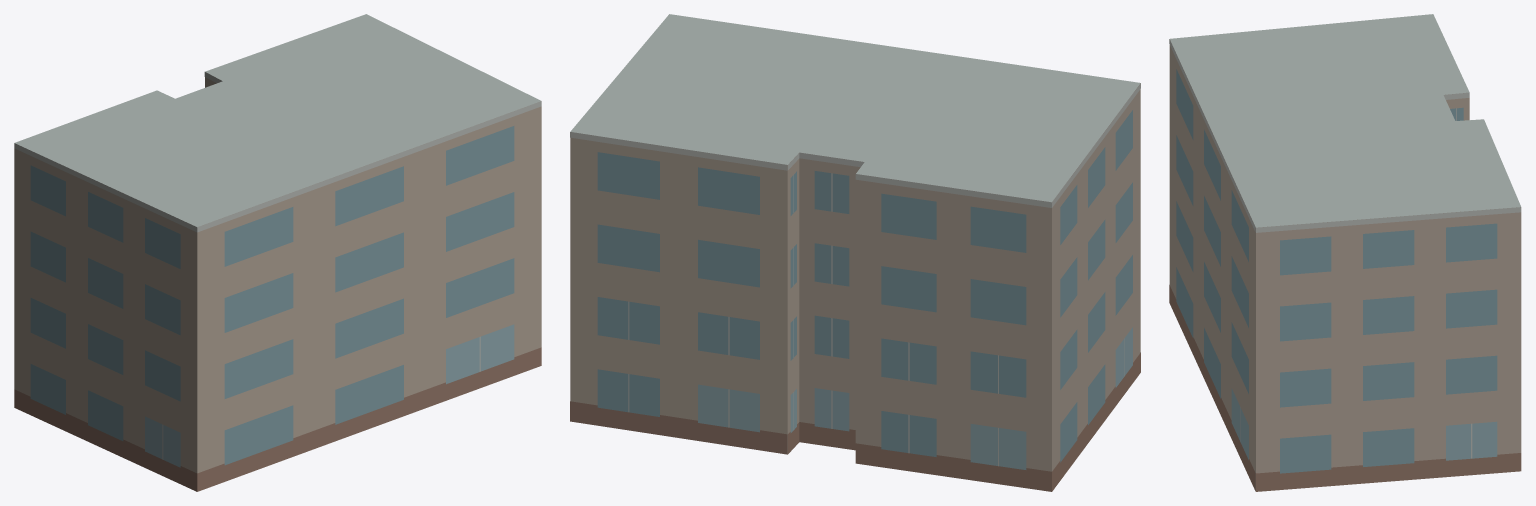
Rendered from survey-upis-32821008.glb.
3 renders of one model, left to right at view 1: azimuth 30°, elevation 25°; view 2: azimuth 150°, elevation 25°; view 3: azimuth 270°, elevation 25°, orthographic. The views are drawn at different scales.
Parts seen in each view (by area): view 1: survey-upis-32821008.tmp; view 2: survey-upis-32821008.tmp; view 3: survey-upis-32821008.tmp.
Boxes of the visible parts, left/top/right/bottom form: survey-upis-32821008.tmp: left=14, top=14, right=541, bottom=491; survey-upis-32821008.tmp: left=570, top=14, right=1140, bottom=491; survey-upis-32821008.tmp: left=1169, top=14, right=1521, bottom=491.
Bounding box in the file's own units: 21.16 × 12.2 × 14.73.
